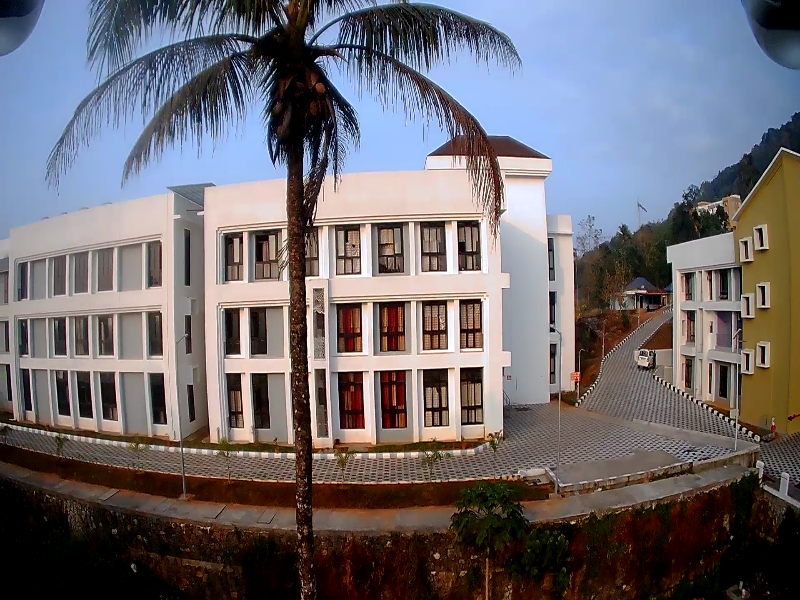coconut: (311, 79, 328, 100), (306, 103, 323, 117), (271, 103, 287, 116), (273, 127, 285, 134)
